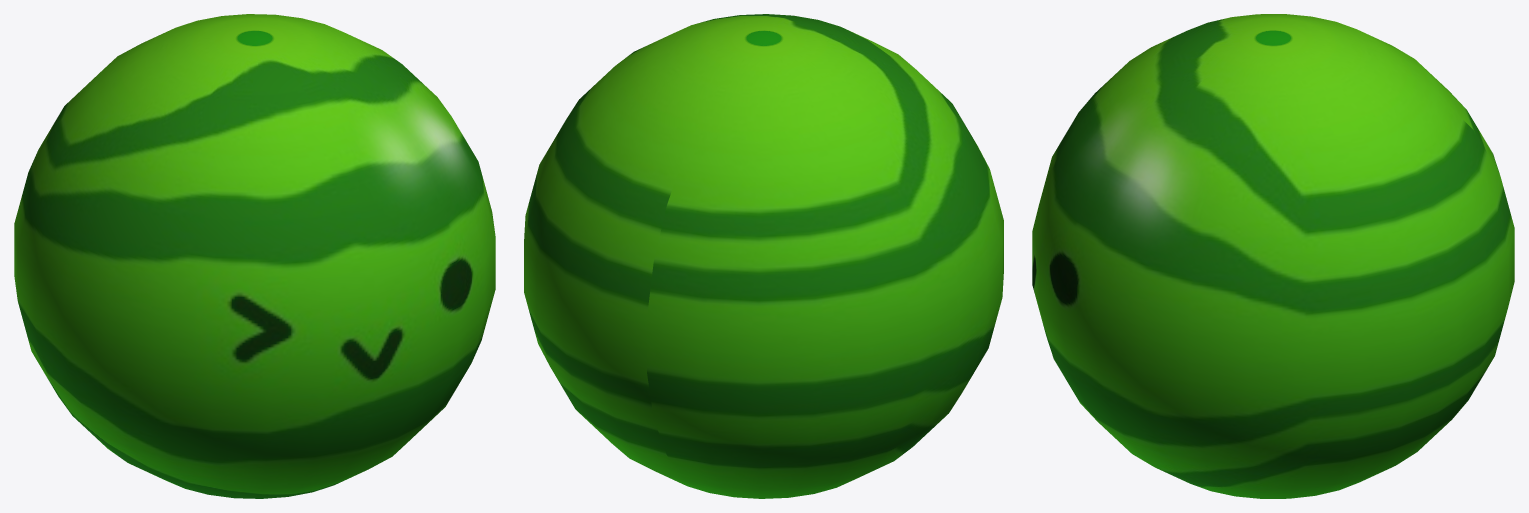
The model's file is fruit_10.glb.
The picture shows the model from 3 angles, left to right: view 1: azimuth 30°, elevation 25°; view 2: azimuth 150°, elevation 25°; view 3: azimuth 270°, elevation 25°; orthographic projection.
Visible parts, largest first — view 1: 10_FRUIT; view 2: 10_FRUIT; view 3: 10_FRUIT.
Part boxes in pixels (x1,y1,x2,y2): 10_FRUIT: (14, 14, 495, 498); 10_FRUIT: (524, 14, 1003, 498); 10_FRUIT: (1032, 14, 1514, 498).
Size of the model in its own units: 2.07 by 2.1 by 2.08.
Materials: 1 (1 with a texture image).
